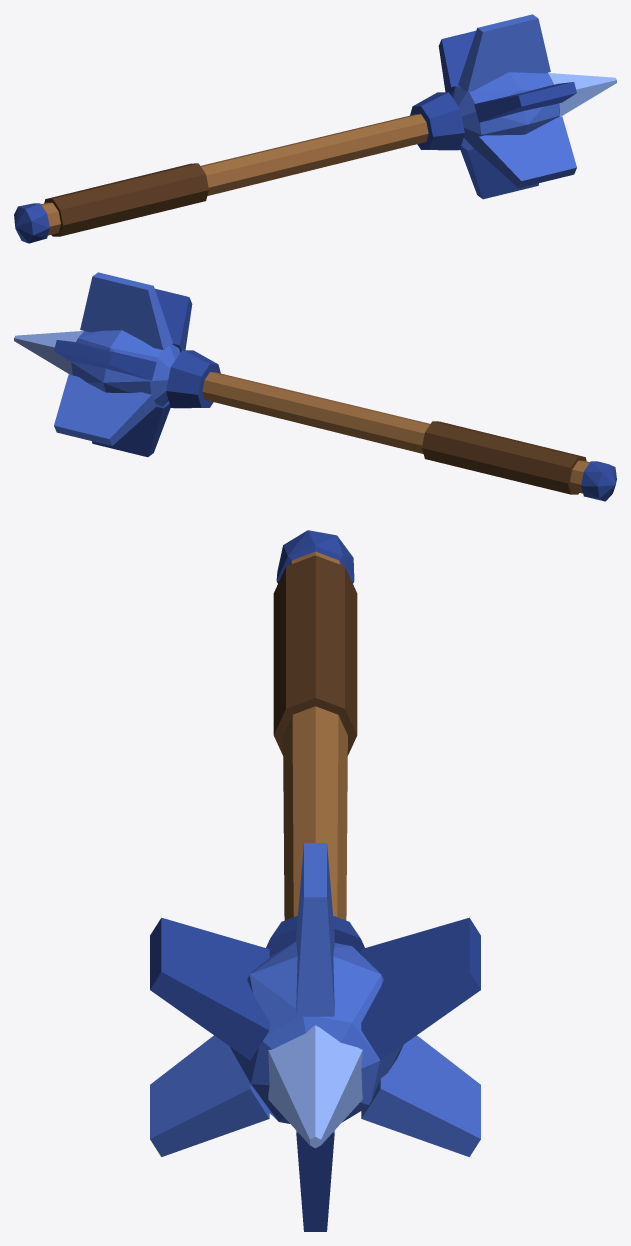
File: drop_mithril_mace.glb
3 renders of one model, top to bottom at view 1: azimuth 30°, elevation 25°; view 2: azimuth 150°, elevation 25°; view 3: azimuth 270°, elevation 25°, orthographic. The views are drawn at different scales.
Visible parts, largest first — view 1: drop_mithril_mace; view 2: drop_mithril_mace; view 3: drop_mithril_mace.
Boxes of the visible parts, x1,y1,x2,y2 form: drop_mithril_mace: [14, 14, 616, 243]; drop_mithril_mace: [14, 272, 616, 501]; drop_mithril_mace: [150, 530, 480, 1231].
Bounding box in the file's own units: 0.6912 × 0.184 × 0.1651.
